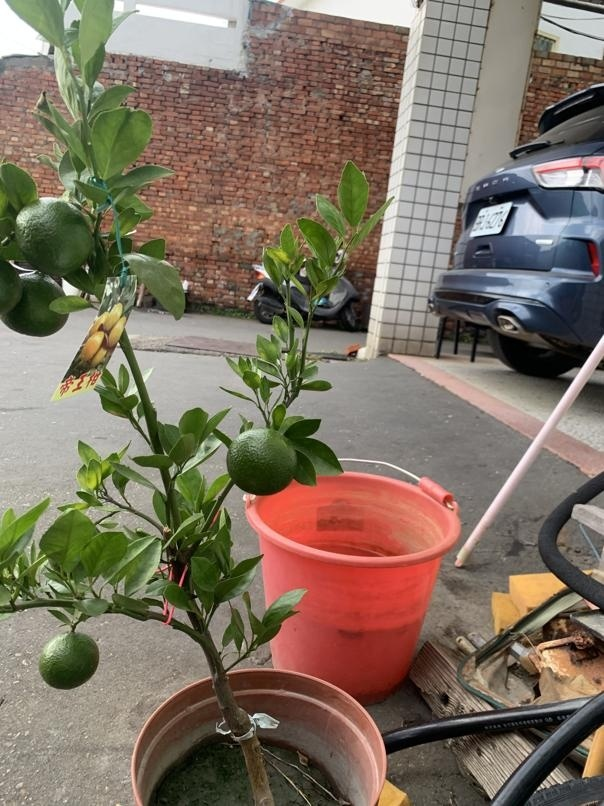Tangerine: (16, 197, 97, 277), (227, 425, 294, 497), (34, 624, 103, 691)
